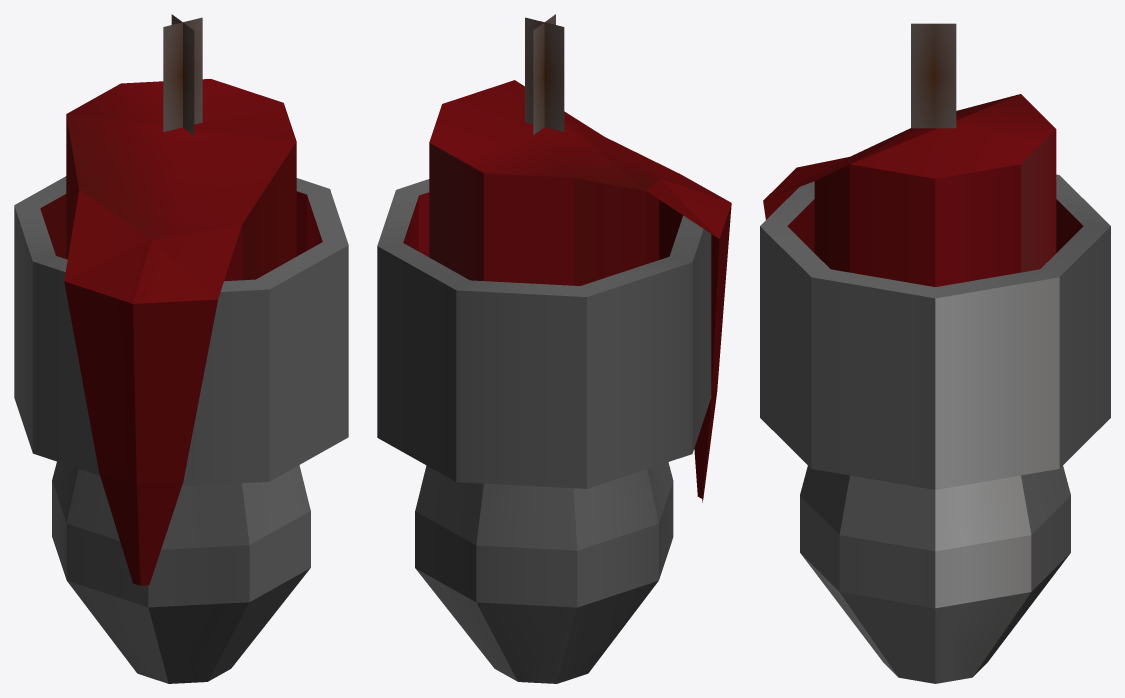
File: spent_light_997x09.obj
3 renders of one model, left to right at view 1: azimuth 30°, elevation 25°; view 2: azimuth 150°, elevation 25°; view 3: azimuth 270°, elevation 25°, orthographic.
Parts seen in each view (by area): view 1: spent_light_997x09; view 2: spent_light_997x09; view 3: spent_light_997x09.
Boxes of the visible parts, <box> form: spent_light_997x09: <box>14,14,348,683</box>; spent_light_997x09: <box>377,14,731,683</box>; spent_light_997x09: <box>760,23,1110,683</box>.
Size of the model in its own units: 0.2129 by 0.4389 by 0.2184.
